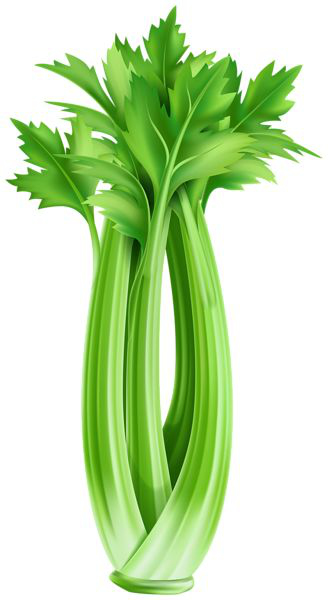Seledri: (22, 14, 328, 600)
